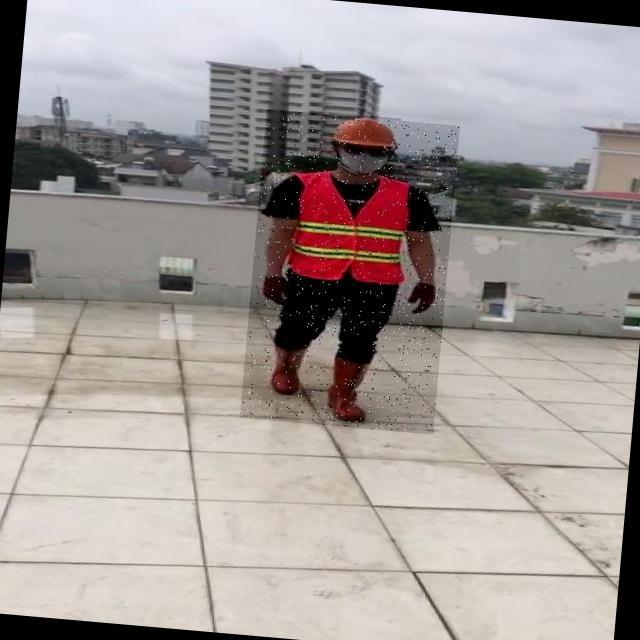Gloves: (257, 274, 294, 308), (408, 284, 436, 318)
Helmet: (326, 112, 401, 148)
Human: (240, 109, 460, 435)
Safety Boot: (324, 357, 374, 423), (264, 342, 308, 397)
Safety Vest: (280, 168, 413, 285)
